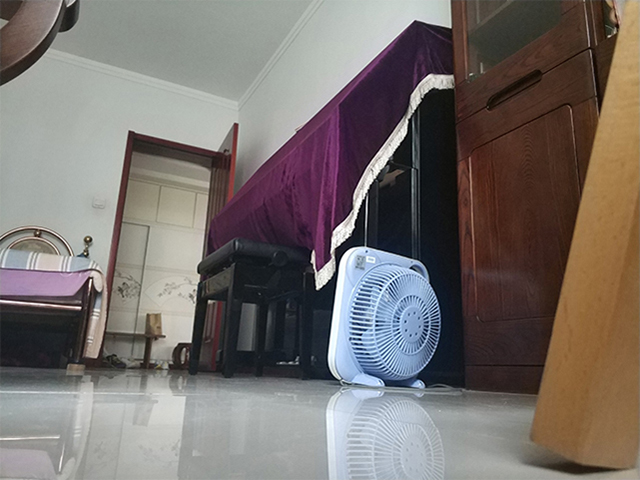bed: (1, 224, 110, 374)
cabinet: (449, 49, 605, 396)
stool: (188, 236, 318, 379), (167, 341, 191, 370)
